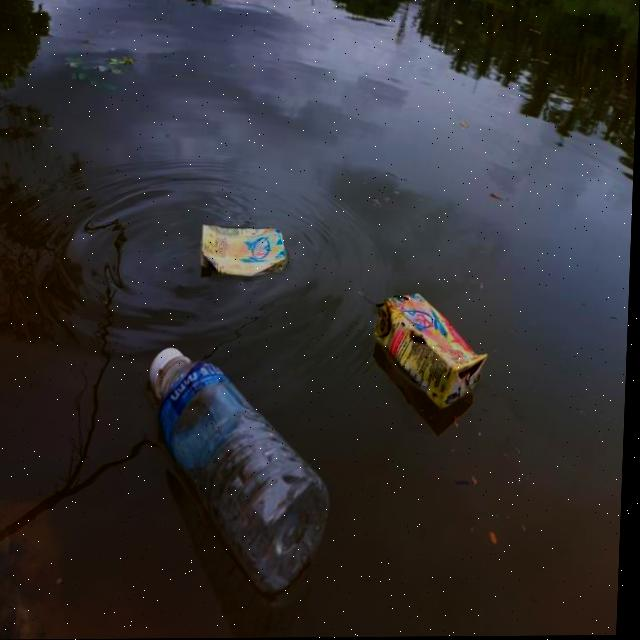paper: (362, 282, 488, 404), (187, 212, 294, 292)
waterbottle: (136, 341, 358, 607)
